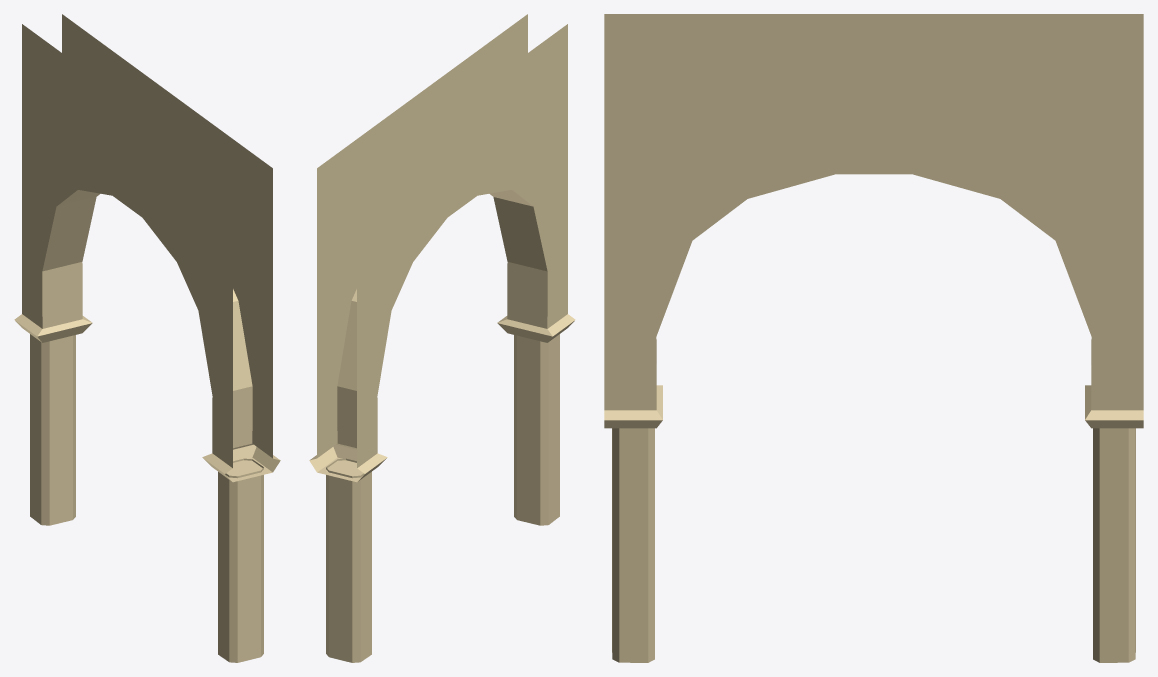
The model's file is Museum_Ark_04.fbx.
3 views of the same model, side by side, from view 1: azimuth 30°, elevation 25°; view 2: azimuth 150°, elevation 25°; view 3: azimuth 270°, elevation 25° (orthographic). The views are drawn at different scales.
Visible parts, largest first — view 1: Archi_Arches.001; view 2: Archi_Arches.001; view 3: Archi_Arches.001.
Boxes of the visible parts, bbox=[...] form: Archi_Arches.001: bbox=[14, 14, 280, 662]; Archi_Arches.001: bbox=[309, 14, 575, 662]; Archi_Arches.001: bbox=[604, 14, 1143, 662].
Size of the model in its own units: 81.73 by 685 by 535.
